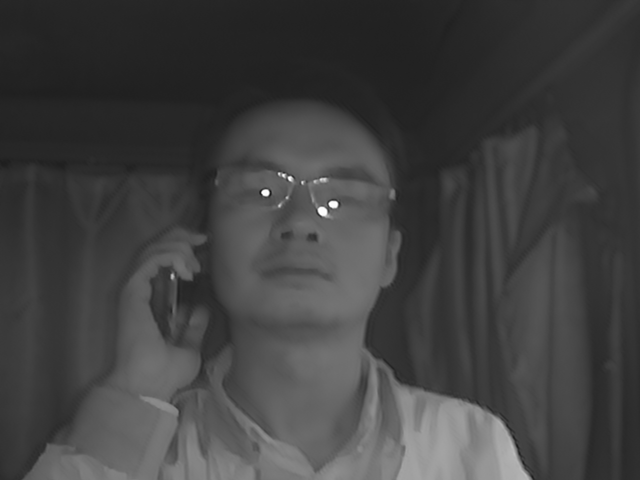hand: (112, 225, 212, 382)
